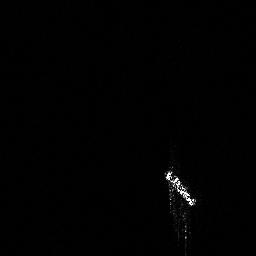ship: (161, 165, 200, 211)
